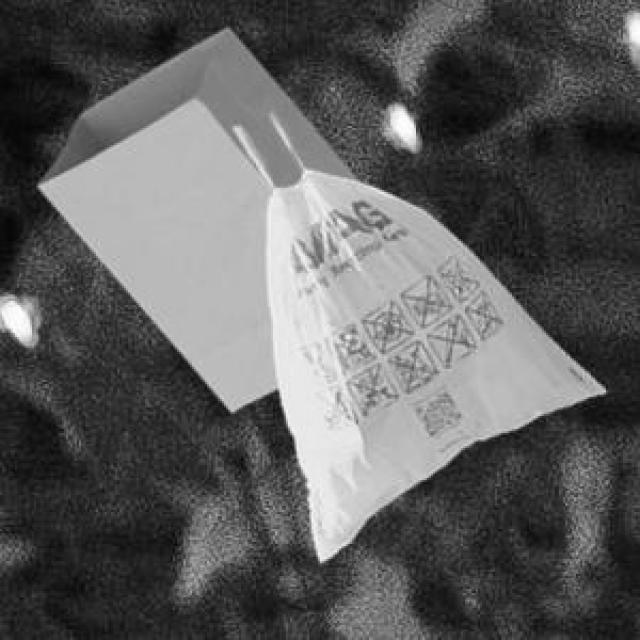paper: (34, 24, 354, 408)
